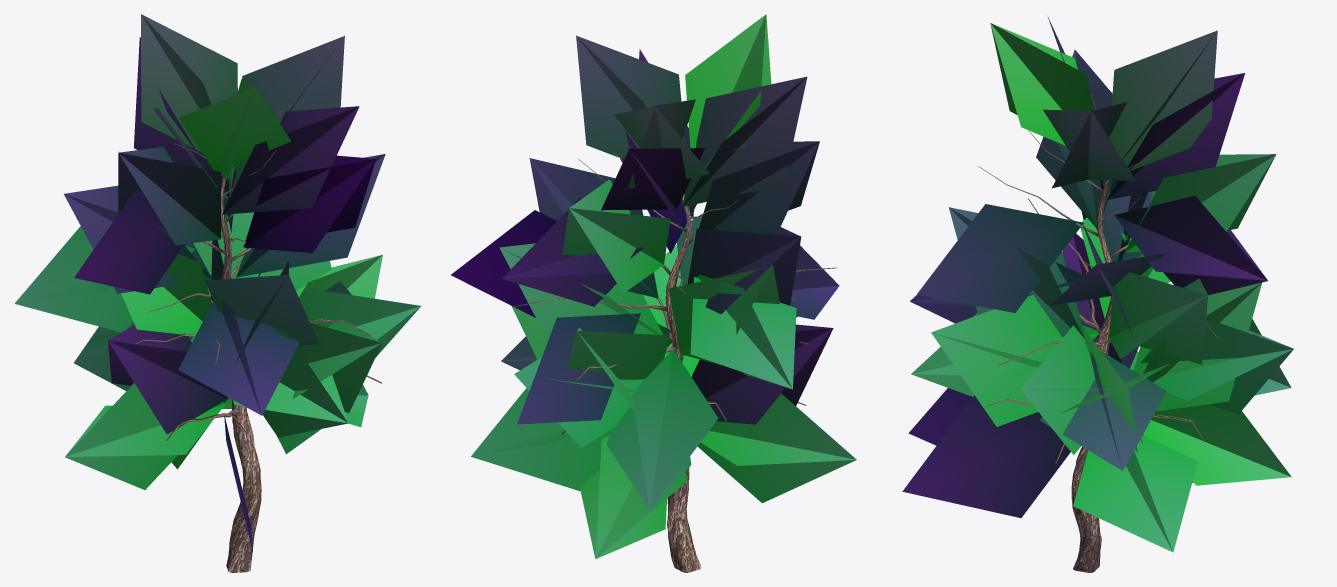
File: willow_1Merge.FBX
3 renders of one model, left to right at view 1: azimuth 30°, elevation 25°; view 2: azimuth 150°, elevation 25°; view 3: azimuth 270°, elevation 25°, orthographic.
Parts seen in each view (by area): view 1: Tree_0; view 2: Tree_0; view 3: Tree_0.
Boxes of the visible parts, x1=… form: Tree_0: x1=14, y1=14, x2=421, y2=572; Tree_0: x1=451, y1=14, x2=856, y2=572; Tree_0: x1=902, y1=16, x2=1293, y2=572.
Bounding box in the file's own units: 27.48 × 27.42 × 38.1.
